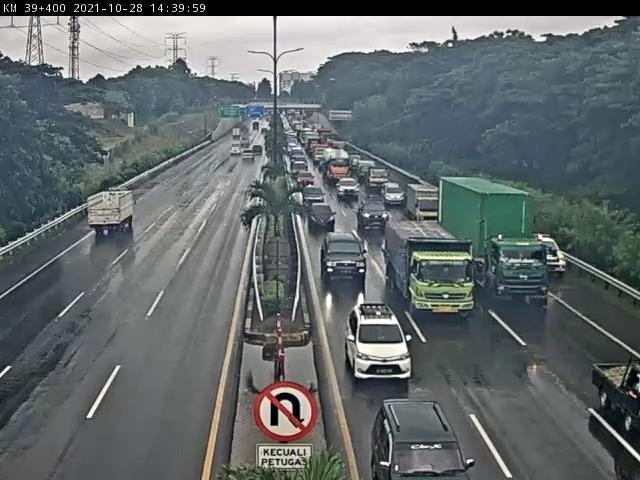car: (346, 302, 413, 378), (322, 234, 369, 281), (356, 198, 392, 233), (307, 203, 336, 229), (379, 183, 409, 208), (365, 164, 390, 188), (336, 176, 362, 199), (303, 187, 325, 207)
truck: (439, 175, 552, 307), (387, 221, 476, 314), (89, 191, 138, 236), (406, 186, 444, 225)
